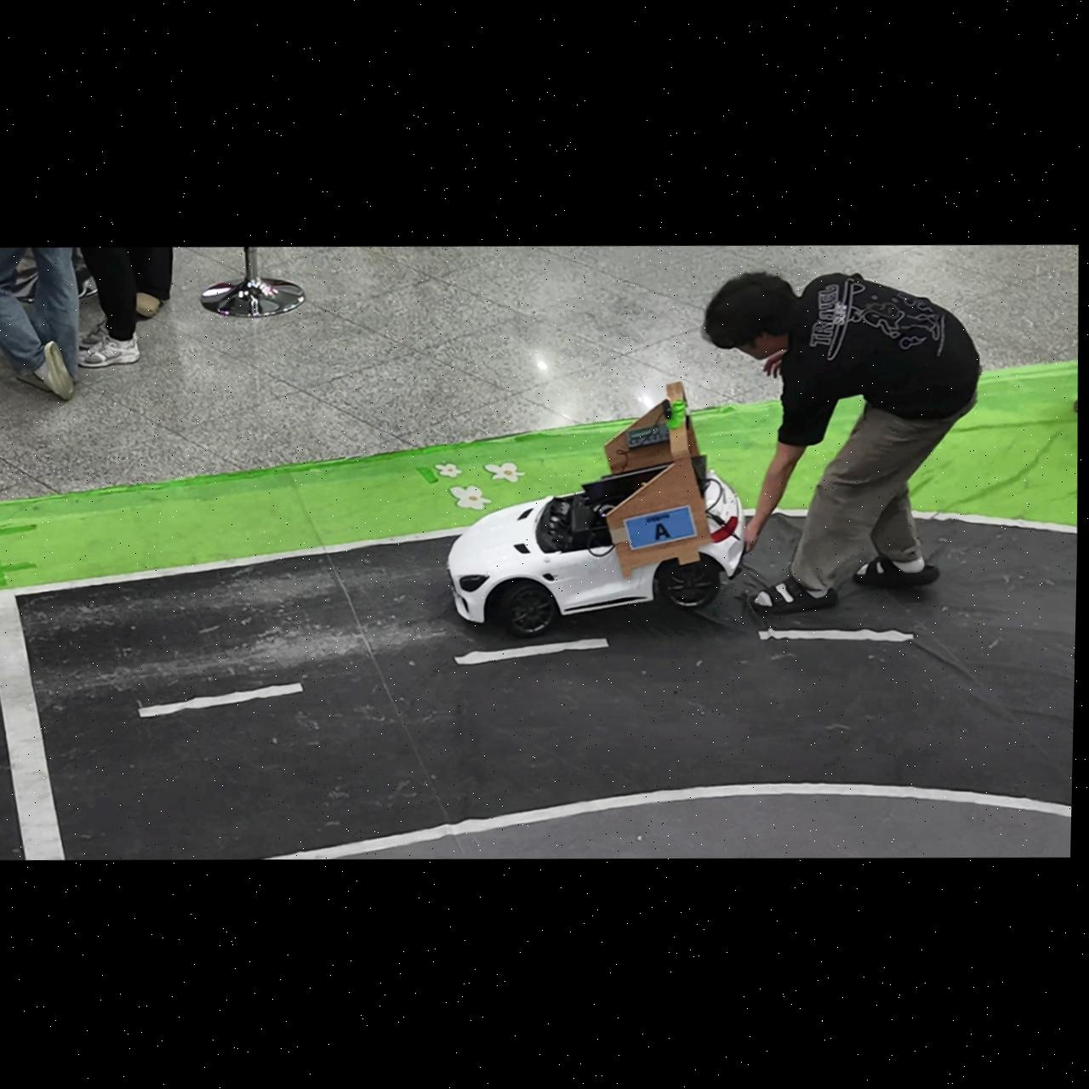broken_line: (139, 683, 303, 717), (454, 638, 609, 664), (758, 629, 913, 642)
